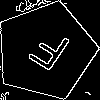F: (20, 26, 73, 81)
